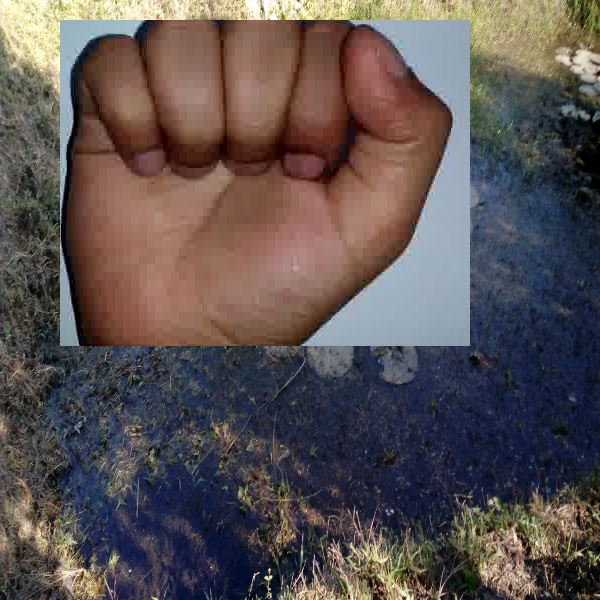A: (60, 20, 470, 346)
